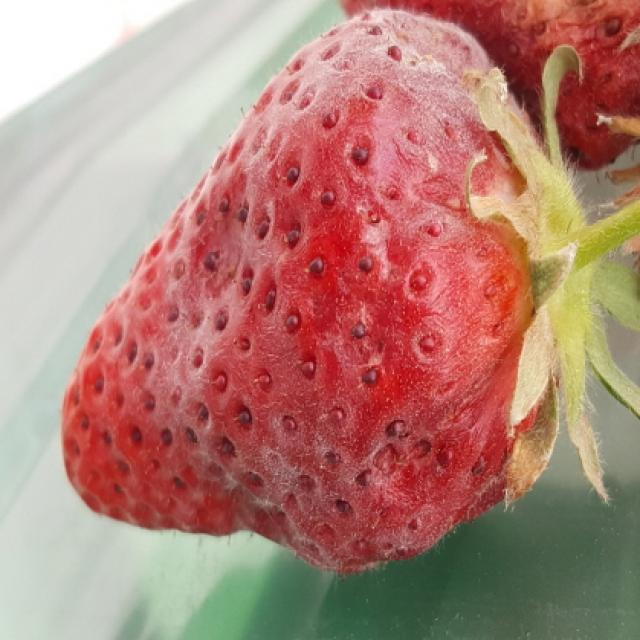Powdery Mildew Fruit: (60, 9, 584, 571)
